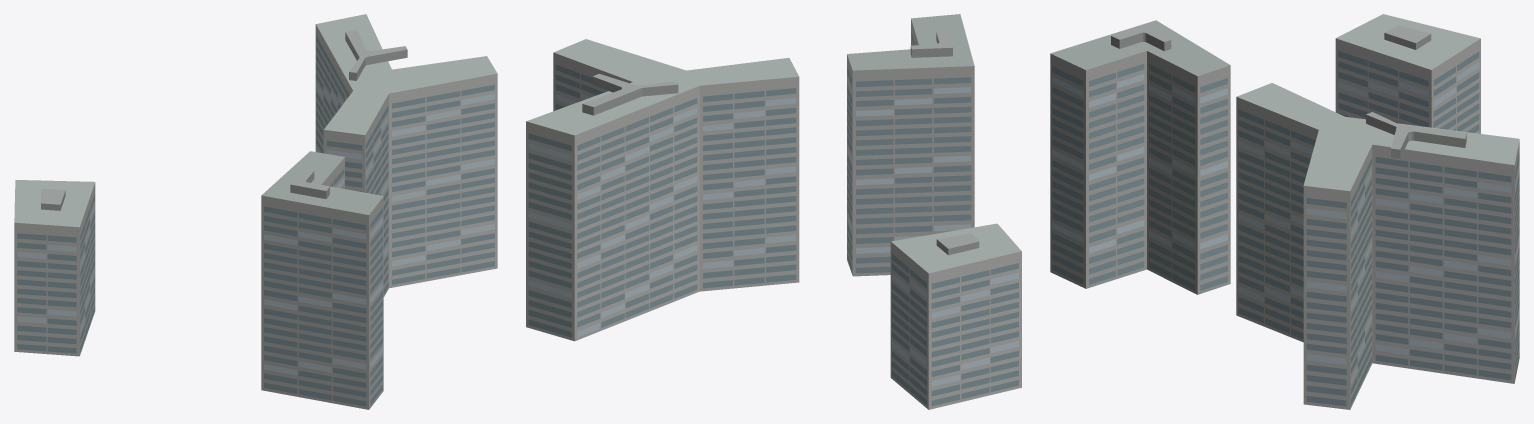
Rendered from apt-a12284501.glb.
3 views of the same model, side by side, from view 1: azimuth 30°, elevation 25°; view 2: azimuth 150°, elevation 25°; view 3: azimuth 270°, elevation 25° (orthographic). The views are drawn at different scales.
Visible parts, largest first — view 1: apt-a12284501; view 2: apt-a12284501; view 3: apt-a12284501.
Part boxes in pixels (left/top/right/bottom): apt-a12284501: left=14, top=14, right=497, bottom=409; apt-a12284501: left=526, top=14, right=1021, bottom=409; apt-a12284501: left=1050, top=14, right=1519, bottom=409.
Size of the model in its own units: 142 by 60 by 112.
